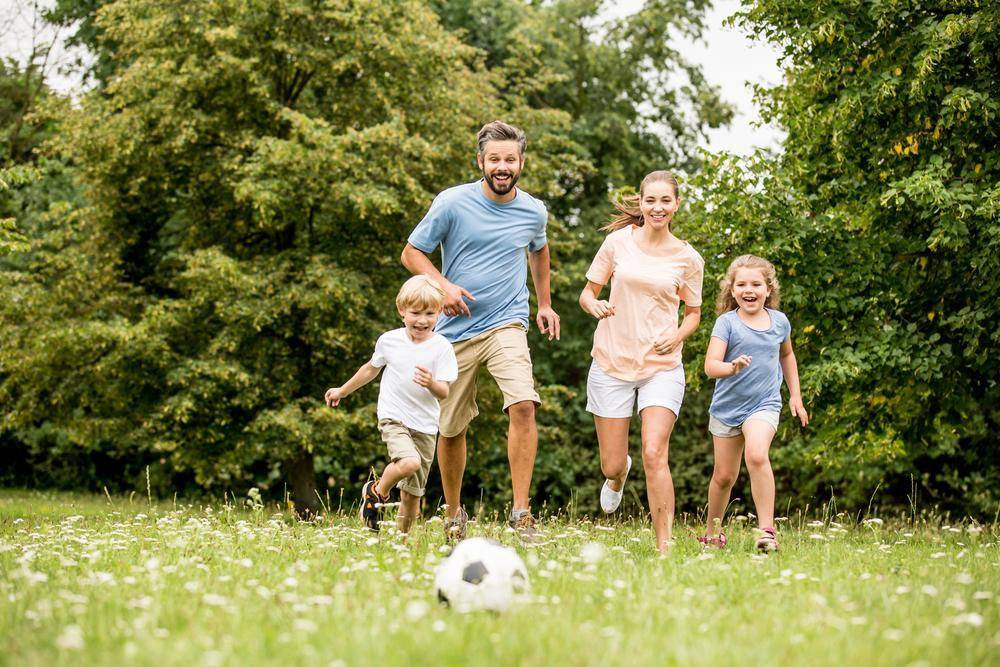Person: (395, 115, 566, 565), (569, 168, 711, 576), (700, 243, 816, 576), (317, 273, 459, 537)
